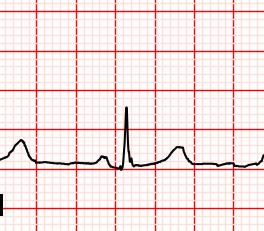LVH: (154, 143, 202, 169)
